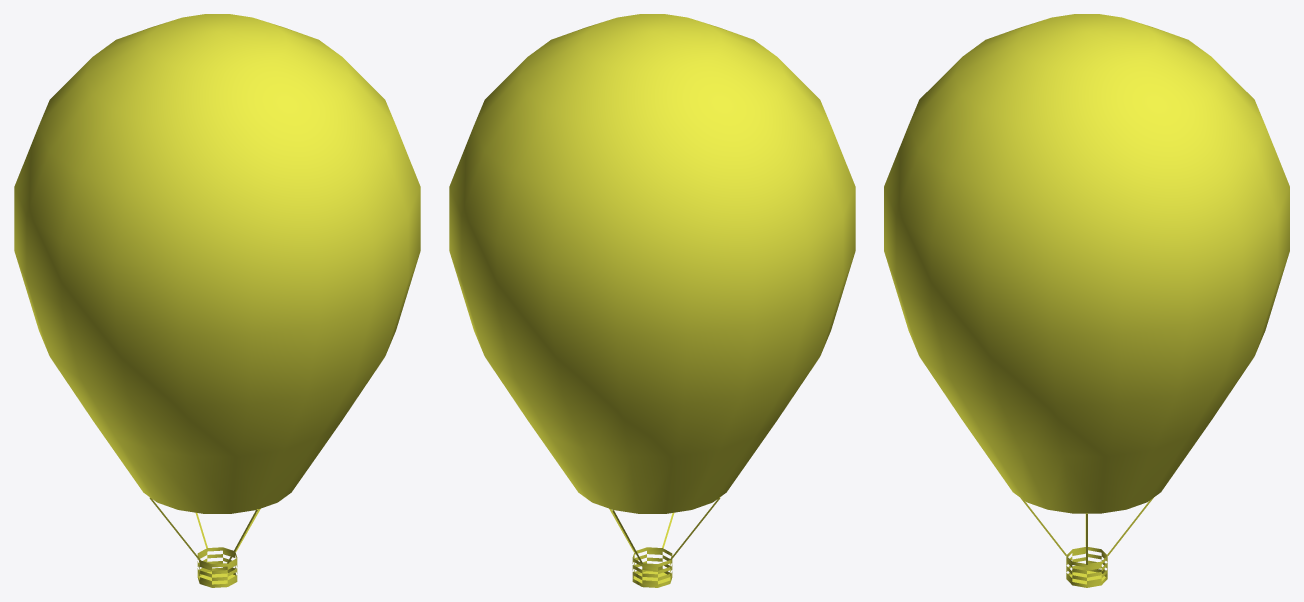
The model's file is rqq.glb.
3 views of the same model, side by side, from view 1: azimuth 30°, elevation 25°; view 2: azimuth 150°, elevation 25°; view 3: azimuth 270°, elevation 25° (orthographic).
Visible parts, largest first — view 1: reqiqiu; view 2: reqiqiu; view 3: reqiqiu.
Boxes of the visible parts, box(x1,y1,x2,y2) form: reqiqiu: box(14, 14, 420, 587); reqiqiu: box(449, 14, 855, 587); reqiqiu: box(884, 14, 1289, 587).
Bounding box in the file's own units: 96.98 × 147 × 98.48.
